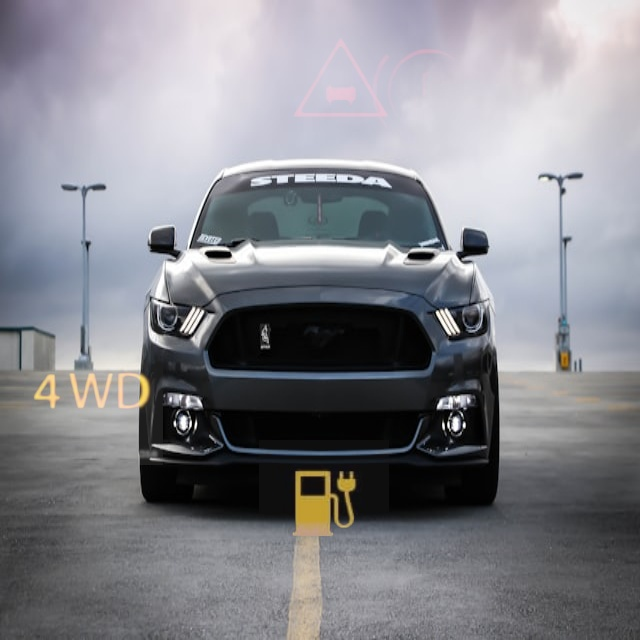symbol: (343, 7, 515, 179), (18, 320, 163, 465), (259, 440, 389, 570), (279, 17, 402, 140)
